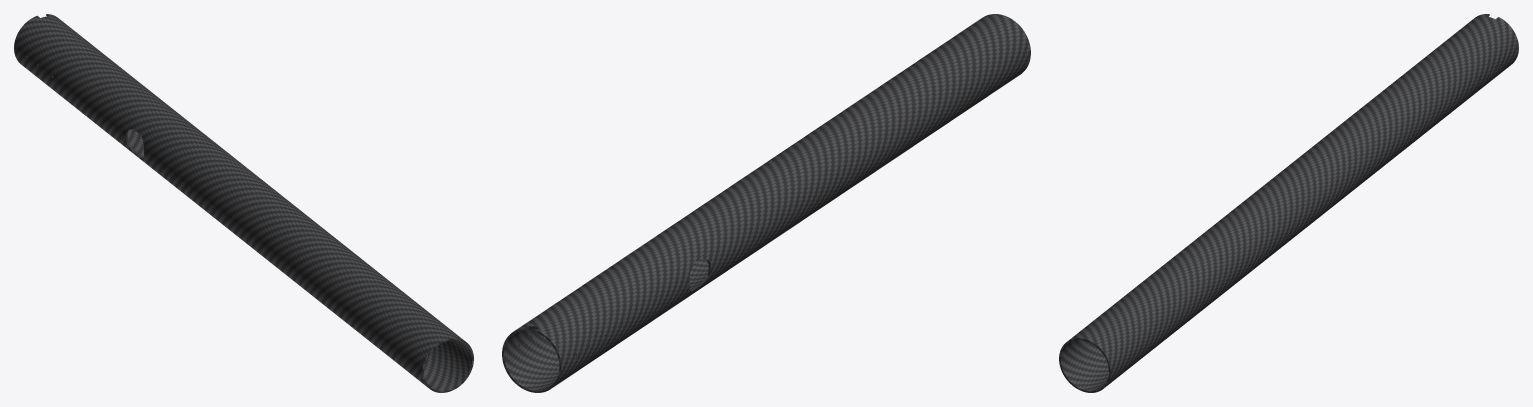
3 renders of one model, left to right at view 1: azimuth 30°, elevation 25°; view 2: azimuth 150°, elevation 25°; view 3: azimuth 330°, elevation 25°, orthographic. The views are drawn at different scales.
Visible parts, largest first — view 1: tubo_fibra_carbono_1.001; view 2: tubo_fibra_carbono_1.001; view 3: tubo_fibra_carbono_1.001.
Part boxes in pixels (left/top/right/bottom): tubo_fibra_carbono_1.001: left=14, top=14, right=473, bottom=392; tubo_fibra_carbono_1.001: left=502, top=14, right=1030, bottom=392; tubo_fibra_carbono_1.001: left=1059, top=14, right=1518, bottom=392.
Size of the model in its own units: 15.85 by 23.26 by 218.
1 material, 1 textured.
